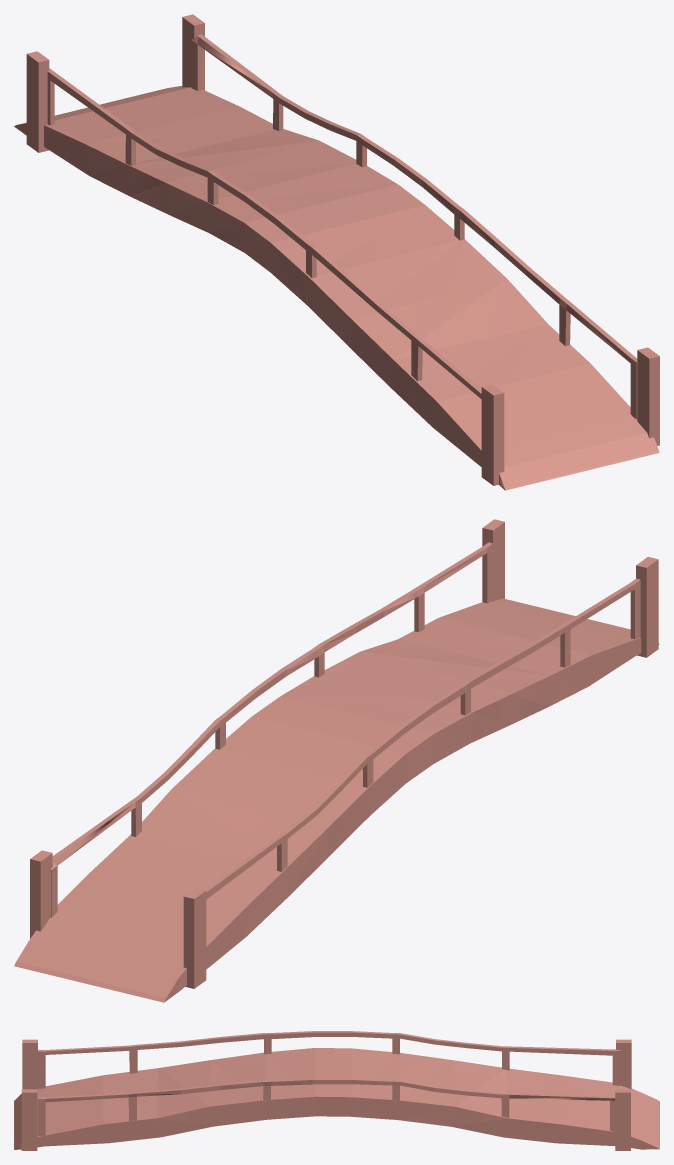
The model's file is puente.fbx.
3 renders of one model, top to bottom at view 1: azimuth 30°, elevation 25°; view 2: azimuth 150°, elevation 25°; view 3: azimuth 270°, elevation 25°, orthographic. The views are drawn at different scales.
Visible parts, largest first — view 1: puente; view 2: puente; view 3: puente.
Boxes of the visible parts, x1,y1,x2,y2 form: puente: (14,14,659,490); puente: (14,519,659,1002); puente: (14,1031,659,1150).
Size of what is drawn, in the model's own units: 343 by 210 by 1775.
